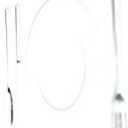fork: (105, 1, 128, 128)
